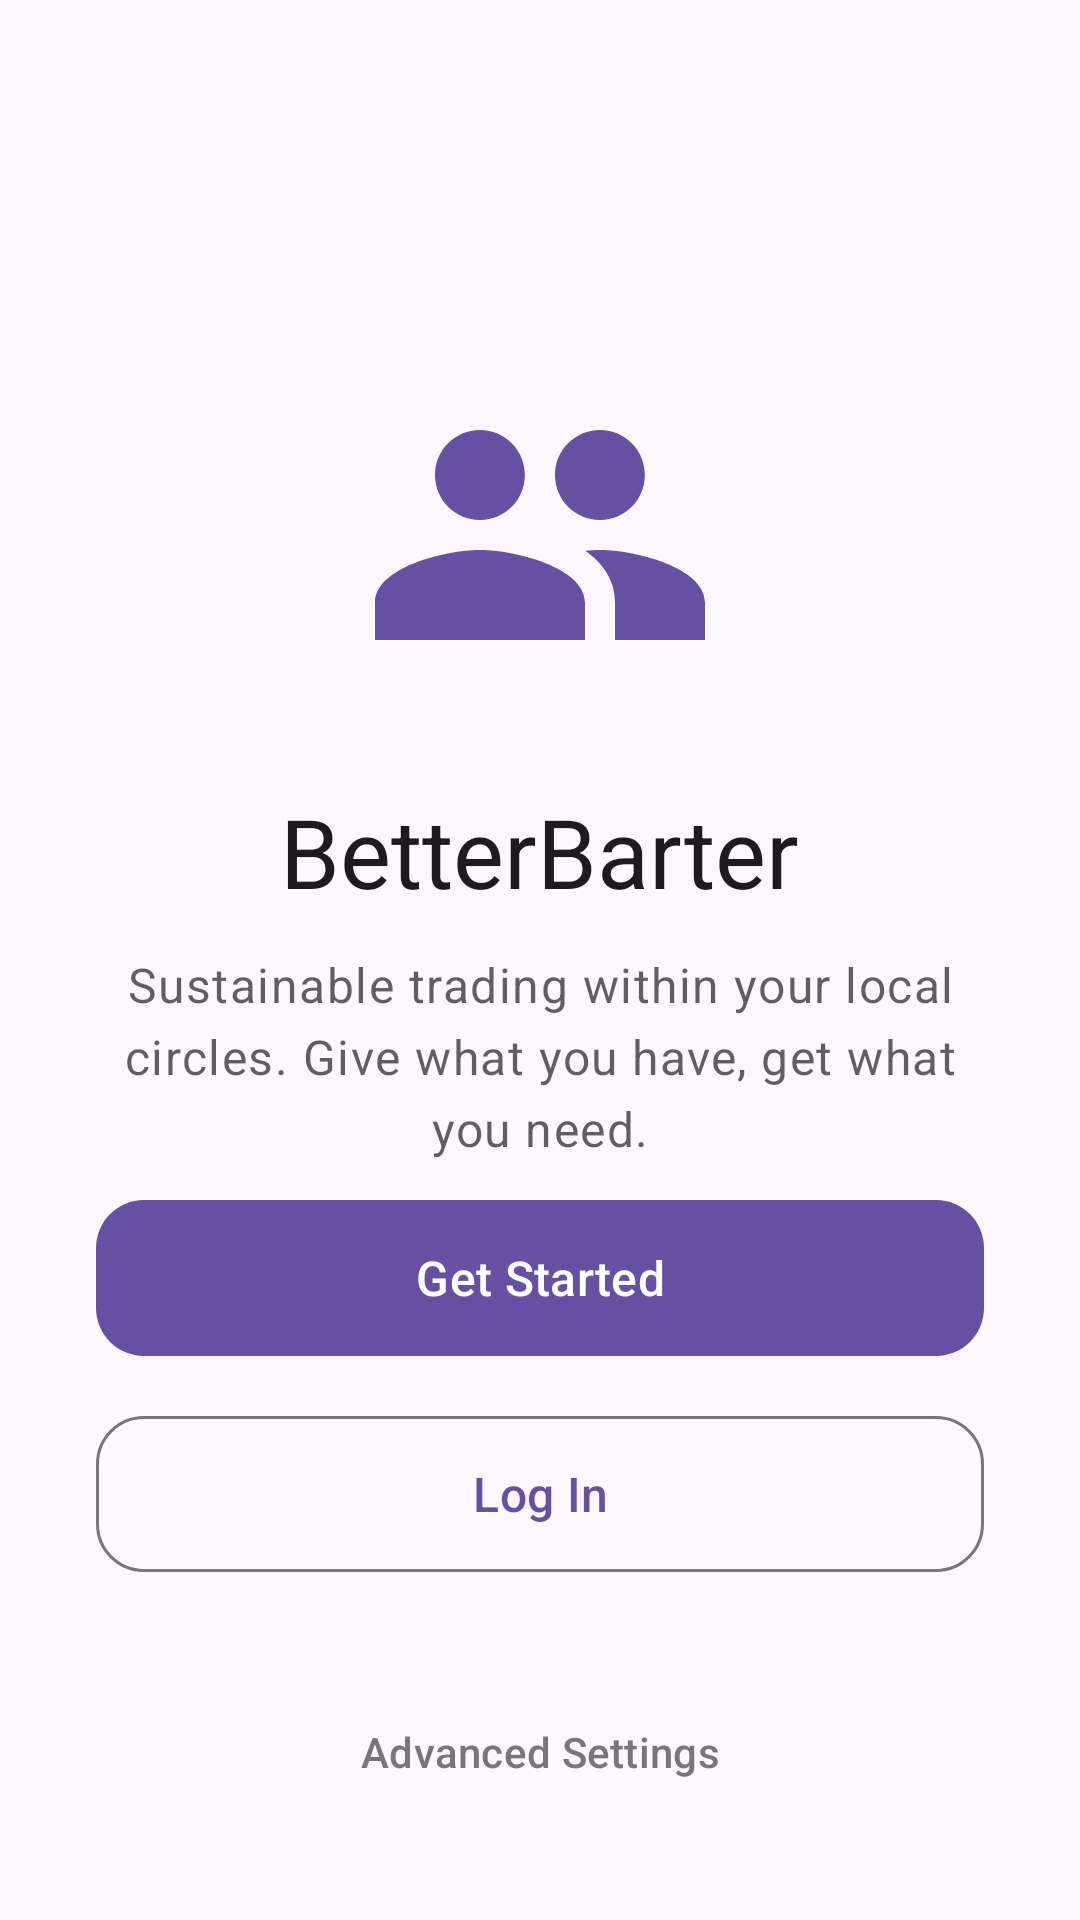

Locate icon controls on the screen. Image size 1080*1920, boxes as (x1, y1, x2, y2).
circles: (375, 430, 705, 640)
